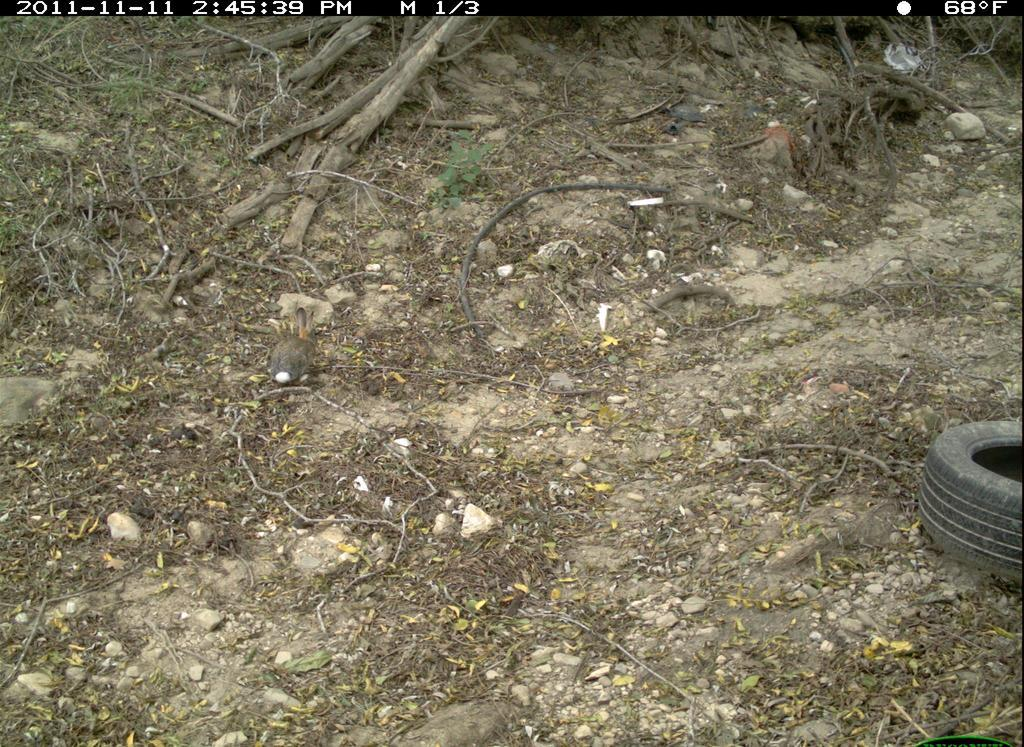rabbit: (263, 296, 333, 392)
